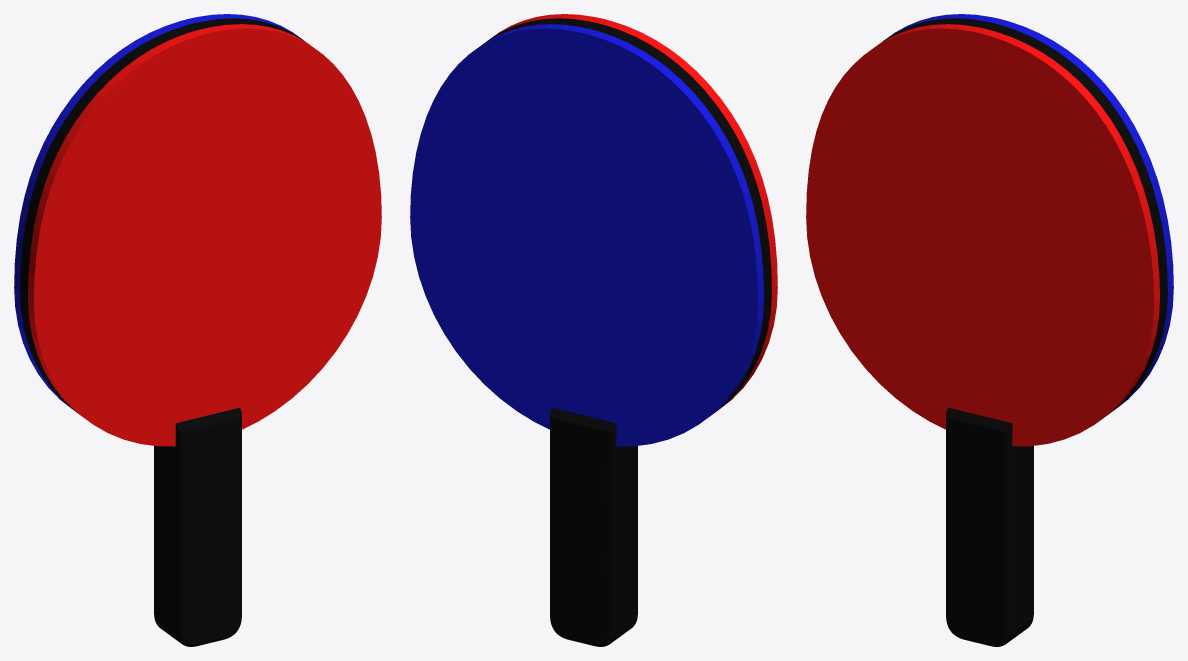
File: paddle.obj
3 renders of one model, left to right at view 1: azimuth 30°, elevation 25°; view 2: azimuth 150°, elevation 25°; view 3: azimuth 330°, elevation 25°, orthographic.
Visible parts, largest first — view 1: paddle; view 2: paddle; view 3: paddle.
Part boxes in pixels (left/top/right/bottom): paddle: left=14, top=14, right=381, bottom=646; paddle: left=410, top=14, right=777, bottom=646; paddle: left=806, top=14, right=1173, bottom=646.
Bounding box in the file's own units: 0.162 × 0.2707 × 0.022.
